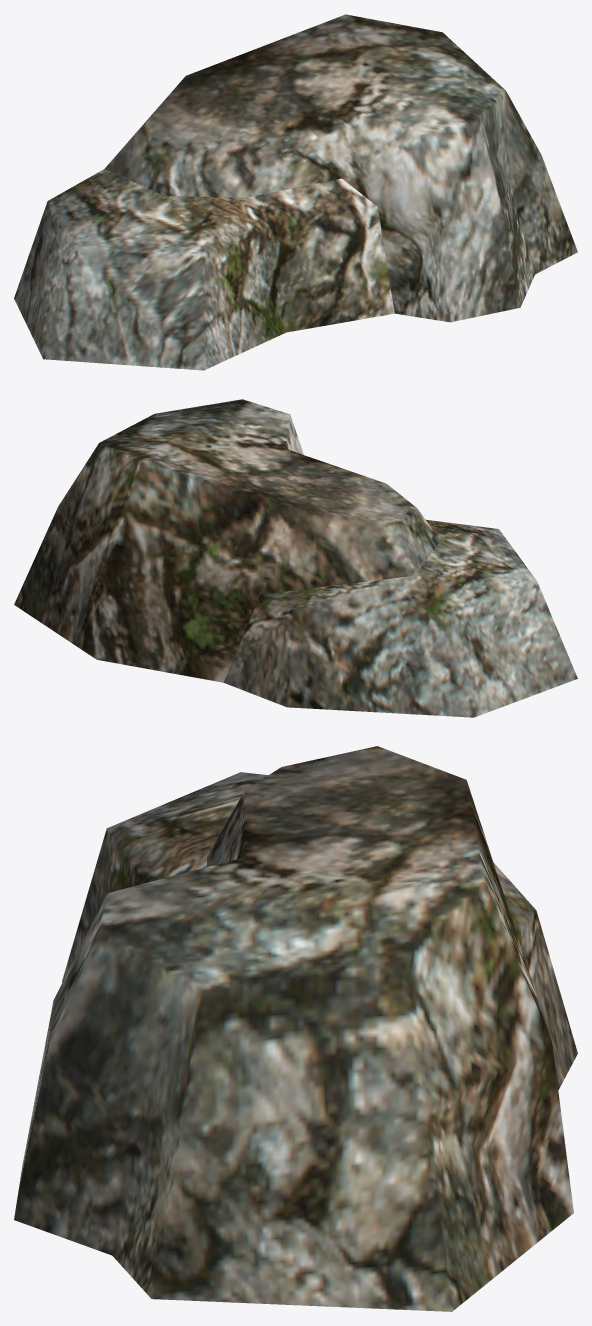
The model's file is shijieditu_15.FBX.
The picture shows the model from 3 angles, top to bottom: view 1: azimuth 30°, elevation 25°; view 2: azimuth 150°, elevation 25°; view 3: azimuth 270°, elevation 25°; orthographic projection. The views are drawn at different scales.
Visible parts, largest first — view 1: shijieditu_15; view 2: shijieditu_15; view 3: shijieditu_15.
Part boxes in pixels (box(x1,y1,x2,y2)): shijieditu_15: box(14, 14, 577, 370); shijieditu_15: box(14, 399, 577, 717); shijieditu_15: box(14, 746, 577, 1311).
Bounding box in the file's own units: 72.89 × 25.66 × 41.75.
